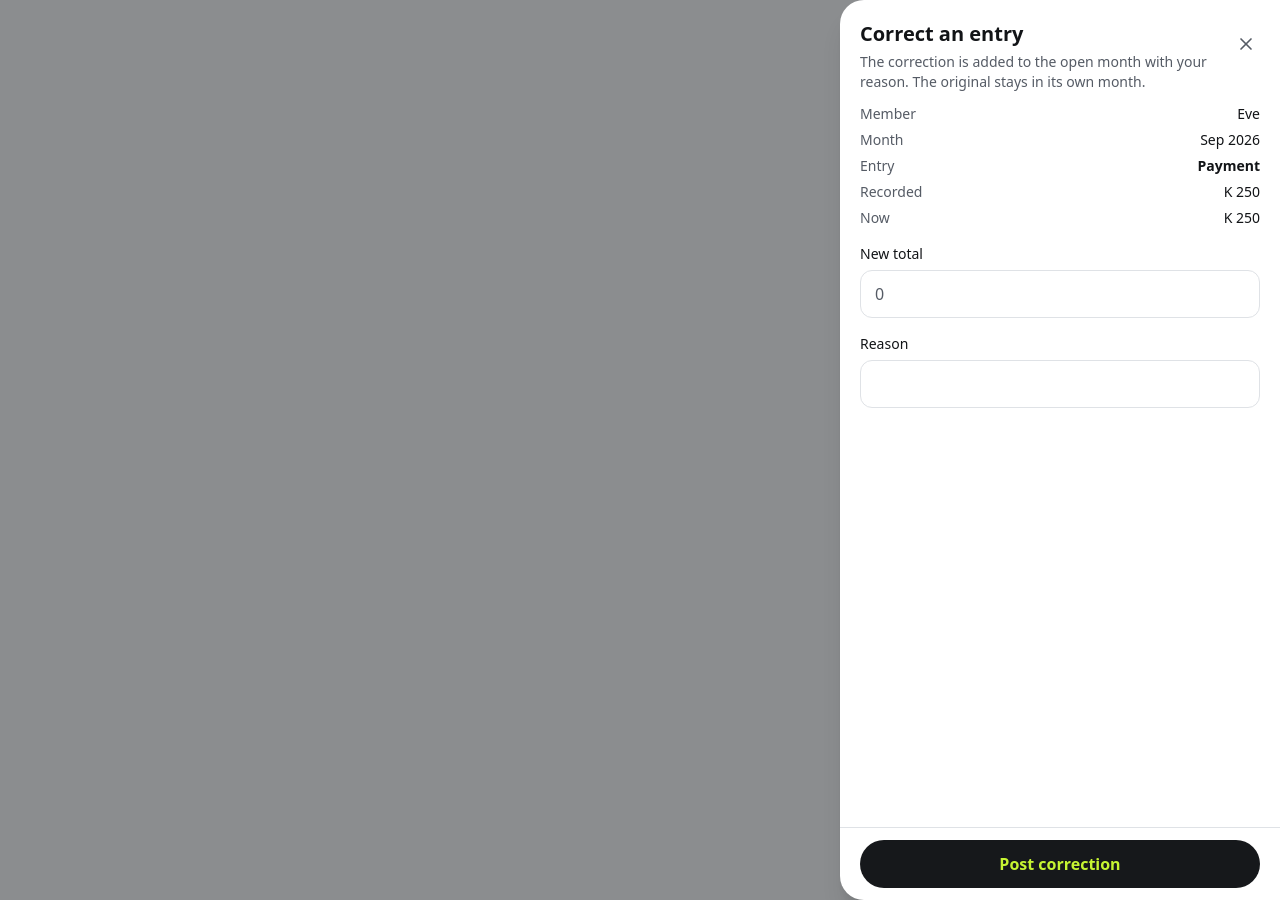
Test: a reason is required
The width and height of the screenshot is (1280, 900).
Step 1. Type "200" into the field labelled "New total" → (1060, 294), box [860,270,1260,318]
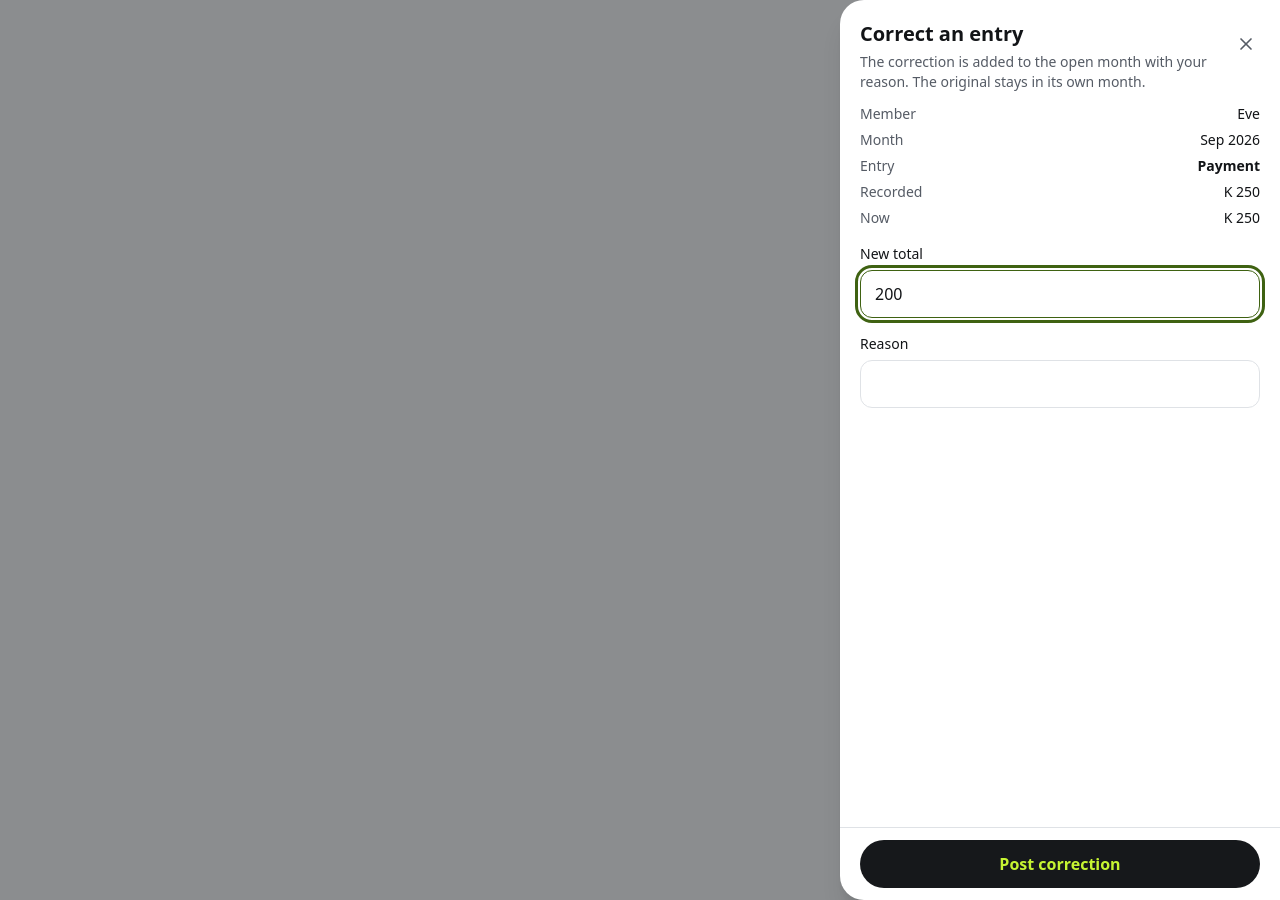
Step 2. Click the button "Post correction" → click(1060, 864), box [860,840,1260,888]
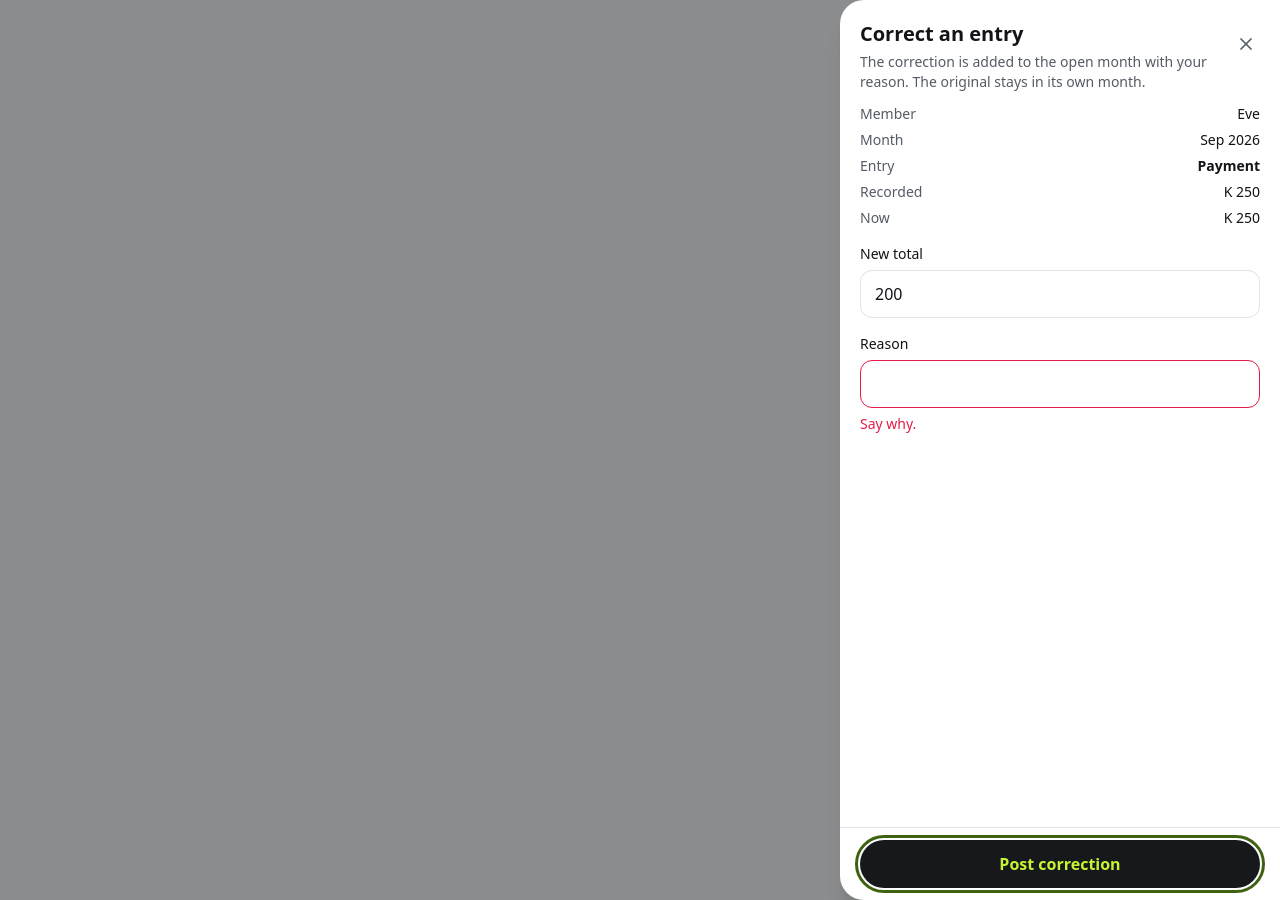
expect the text "Say why." is shown: met, box [860,414,916,433]
